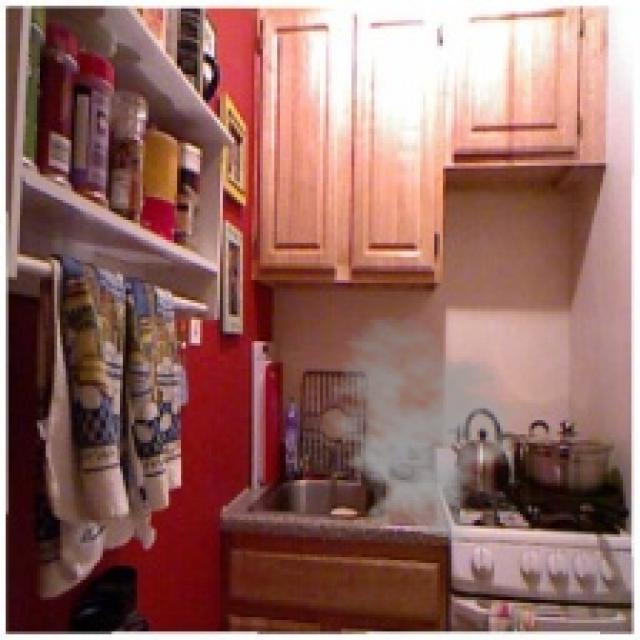Smoke: (312, 314, 522, 543)
